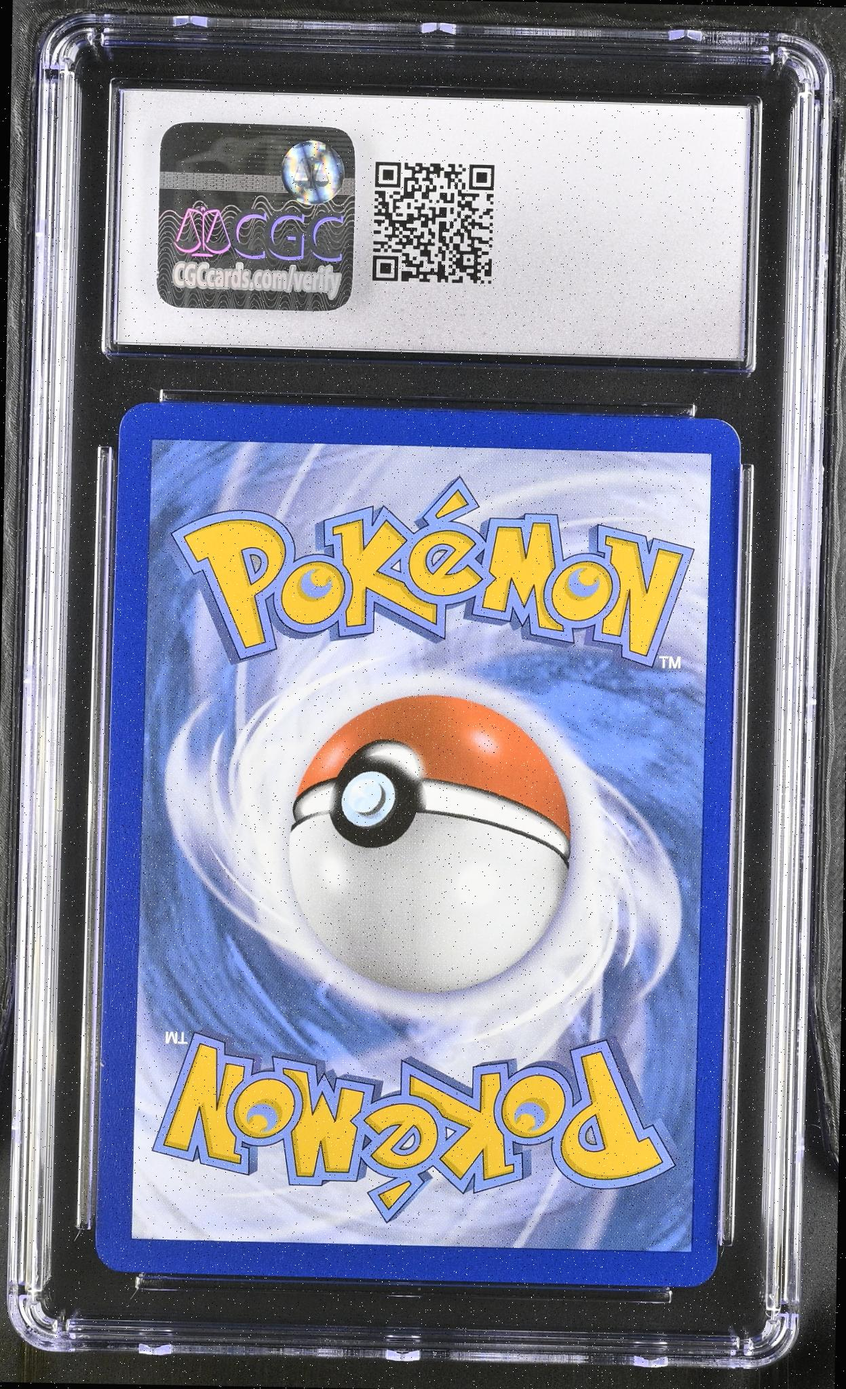card-2UtV: (94, 402, 741, 1287)
